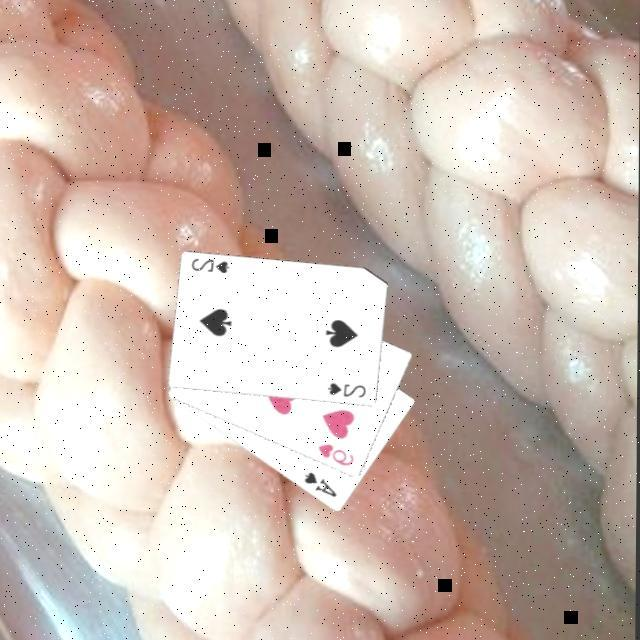2S: (327, 379, 371, 400), (190, 254, 236, 274)
6H: (318, 440, 360, 468)
AS: (304, 468, 342, 500)
